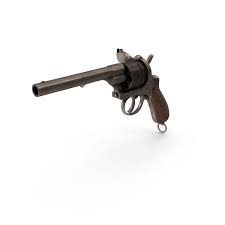weapon: (31, 48, 169, 132)
